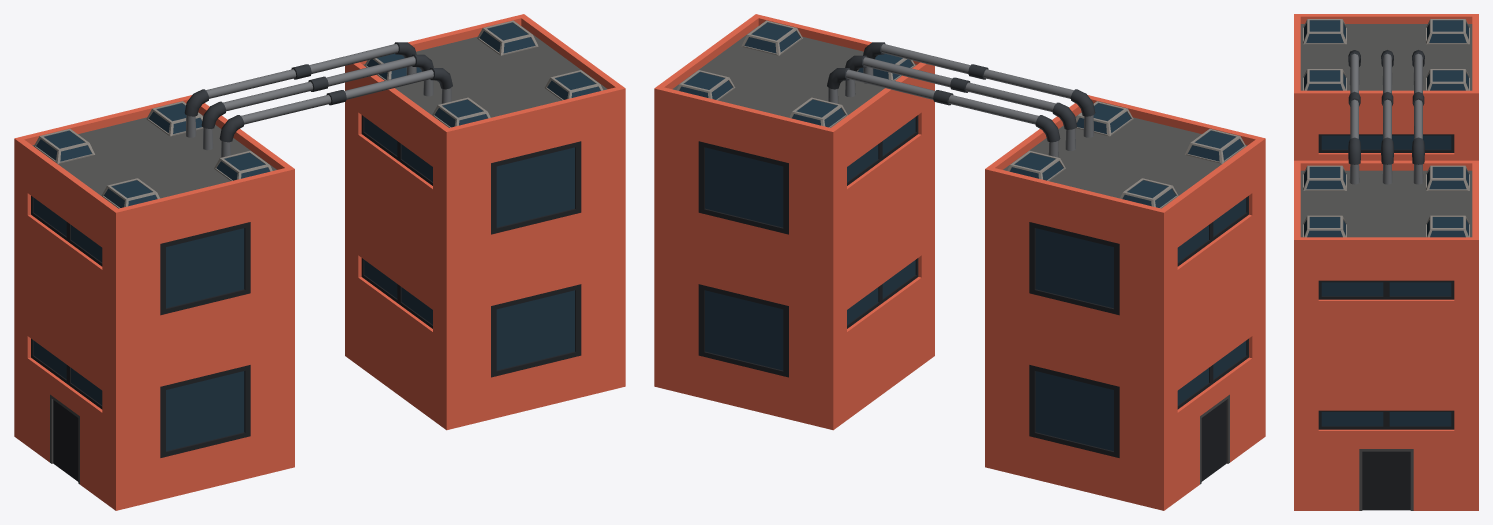
Rendered from Factory_3.fbx.
3 renders of one model, left to right at view 1: azimuth 30°, elevation 25°; view 2: azimuth 150°, elevation 25°; view 3: azimuth 270°, elevation 25°, orthographic. The views are drawn at different scales.
Visible parts, largest first — view 1: Factory_3; view 2: Factory_3; view 3: Factory_3.
Boxes of the visible parts, <box> form: Factory_3: <box>14,14,625,510</box>; Factory_3: <box>654,14,1265,510</box>; Factory_3: <box>1294,14,1478,510</box>.
Size of the model in its own units: 1371 by 856 by 474.
